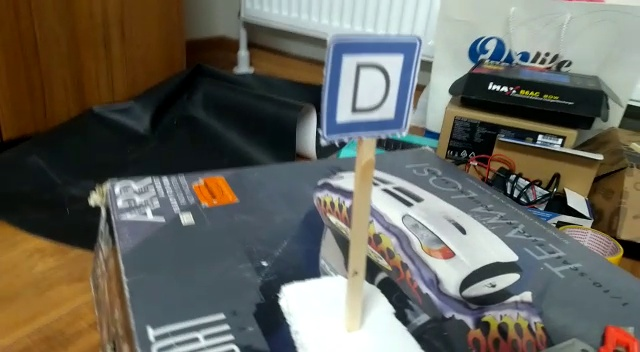durak: (314, 39, 423, 135)
